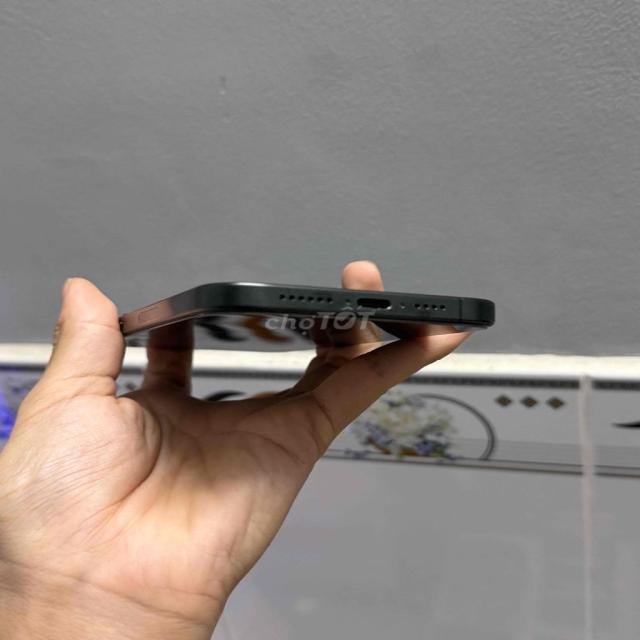gen_15: (92, 273, 512, 377)
